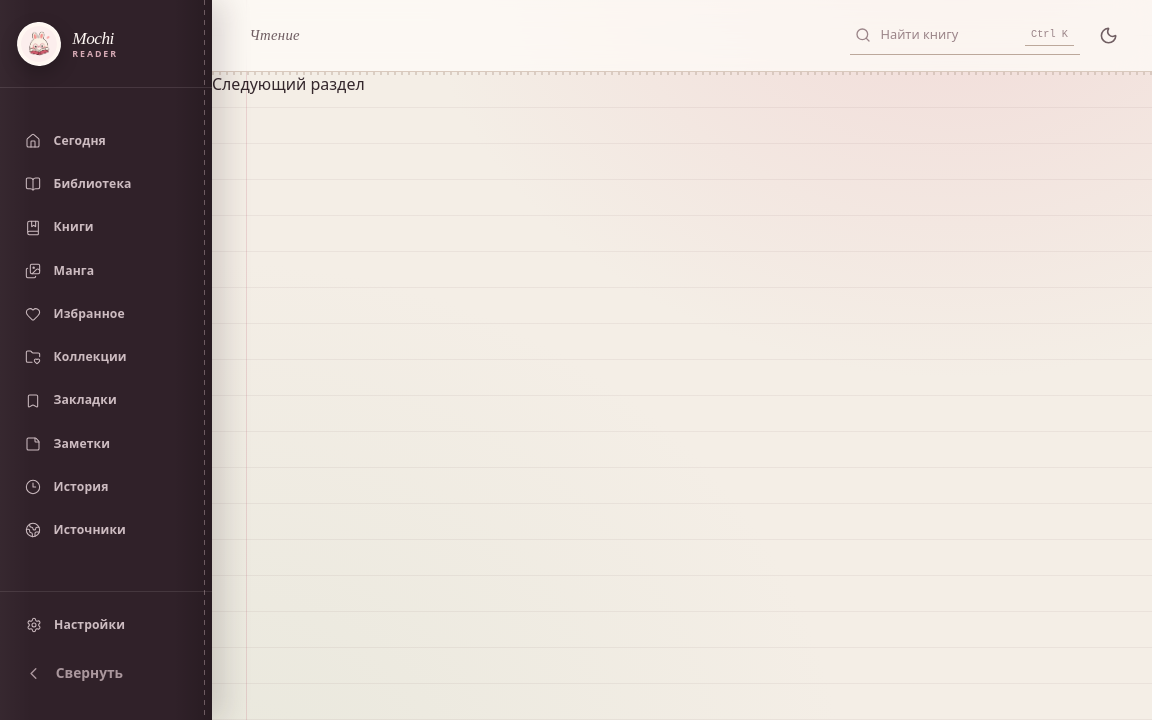
app layout navigation › returns the content canvas to the top after changing sections
Click the link "Следующий раздел": (288, 84) [212,73,365,95]
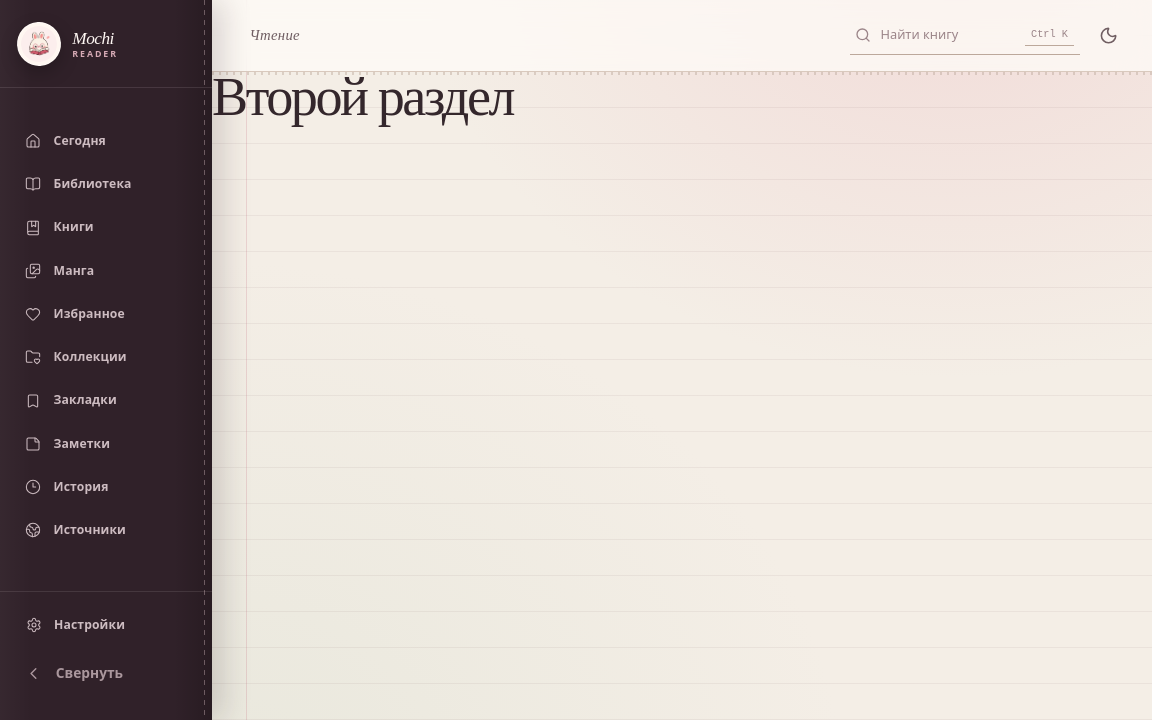
Now the heading "Второй раздел" is shown, box [212,72,513,127]
